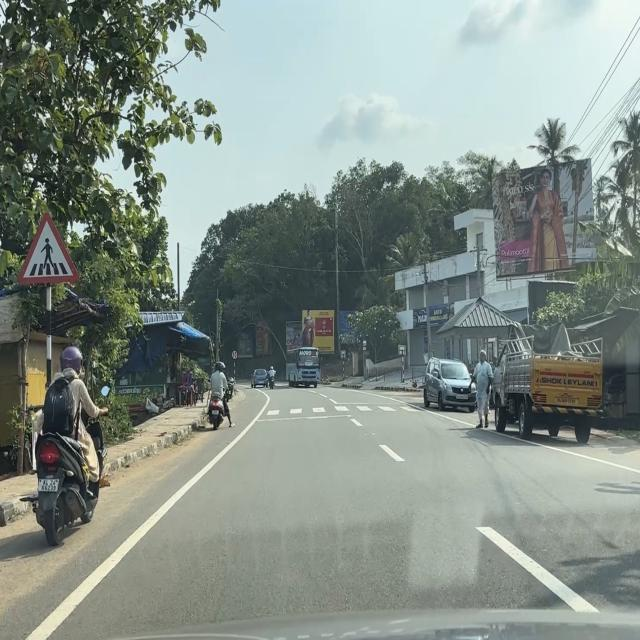PEDESTRIAN_CROSSING: (16, 210, 82, 285)
